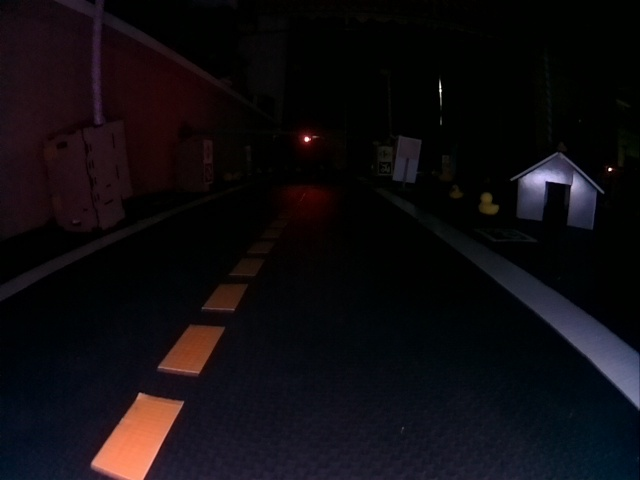Duckie: (479, 193, 498, 214), (450, 186, 464, 198)
Intersection sign: (379, 147, 391, 160)
QR code: (476, 227, 538, 242)
